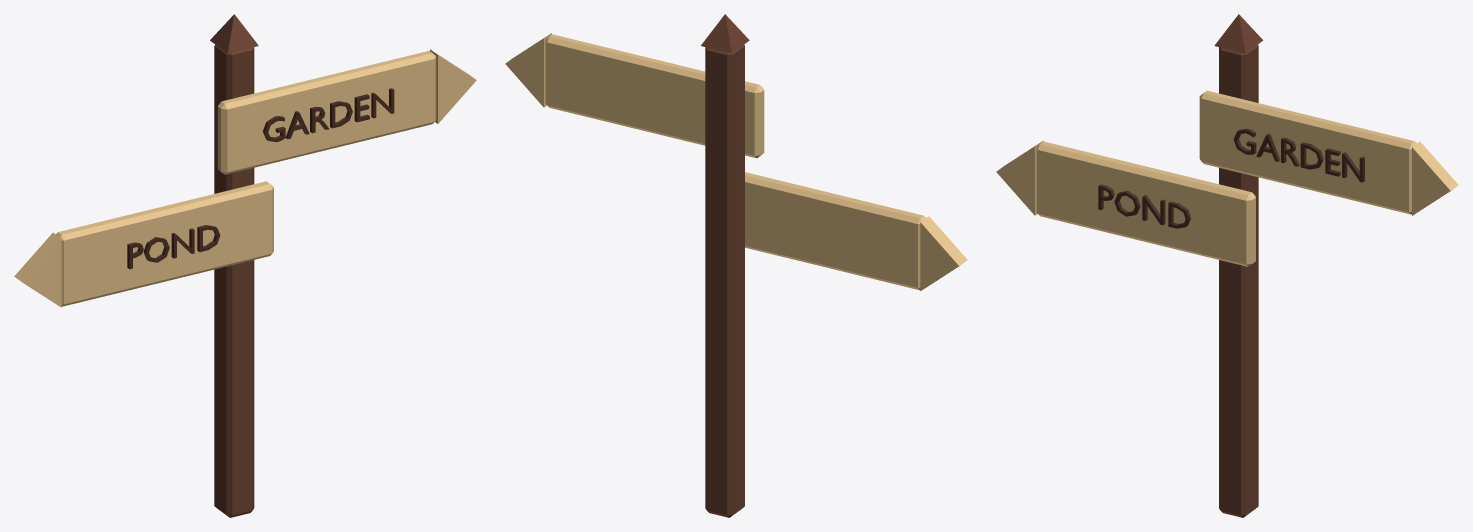
The model's file is Sign_Post_Garden.fbx.
3 renders of one model, left to right at view 1: azimuth 30°, elevation 25°; view 2: azimuth 150°, elevation 25°; view 3: azimuth 330°, elevation 25°, orthographic.
Visible parts, largest first — view 1: Sign_Post_Garden; view 2: Sign_Post_Garden; view 3: Sign_Post_Garden.
Boxes of the visible parts, bbox=[...] form: Sign_Post_Garden: bbox=[14, 14, 476, 517]; Sign_Post_Garden: bbox=[505, 14, 967, 517]; Sign_Post_Garden: bbox=[996, 14, 1458, 517].
Size of the model in its own units: 2.34 by 2.45 by 0.2404.
